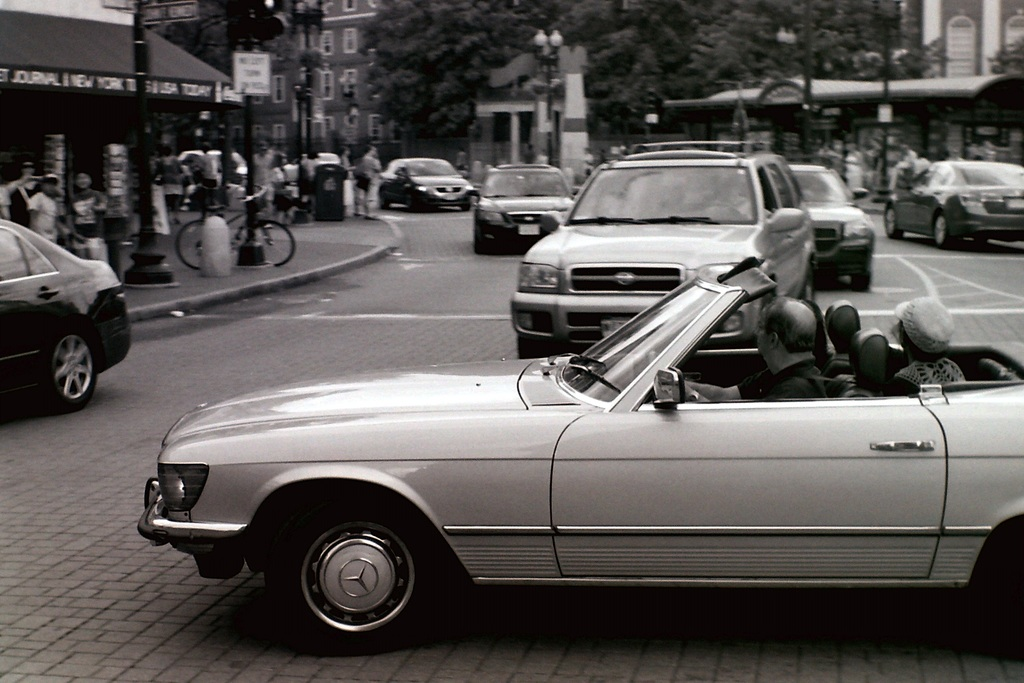Car: (153, 235, 1007, 648), (502, 131, 824, 361), (0, 223, 128, 408), (883, 156, 1023, 244), (791, 165, 877, 287), (468, 164, 566, 260), (378, 148, 462, 210)
